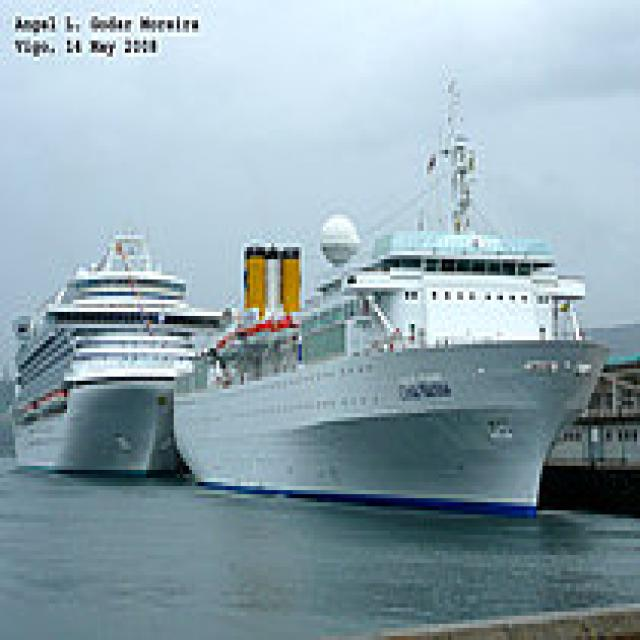boat: (178, 332, 612, 542), (15, 268, 196, 500)
